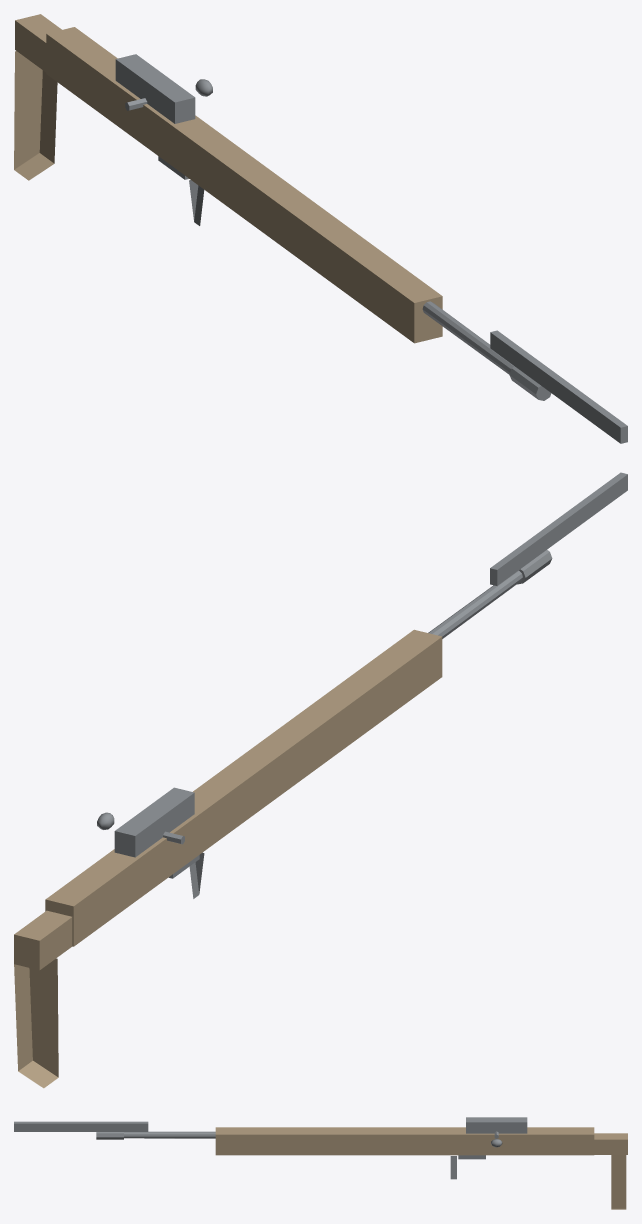
File: trench-line-1917-bolt-rifle-bayonet-8a2ff2ac__24096.glb
3 renders of one model, top to bottom at view 1: azimuth 30°, elevation 25°; view 2: azimuth 150°, elevation 25°; view 3: azimuth 270°, elevation 25°, orthographic. The views are drawn at different scales.
Visible parts, largest first — view 1: bolt-rifle-bayonet; view 2: bolt-rifle-bayonet; view 3: bolt-rifle-bayonet.
Part boxes in pixels (left/top/right/bottom): bolt-rifle-bayonet: left=14, top=14, right=627, bottom=443; bolt-rifle-bayonet: left=14, top=472, right=627, bottom=1088; bolt-rifle-bayonet: left=14, top=1117, right=627, bottom=1209.
Size of the model in its own units: 0.1632 by 0.335 by 2.01.
